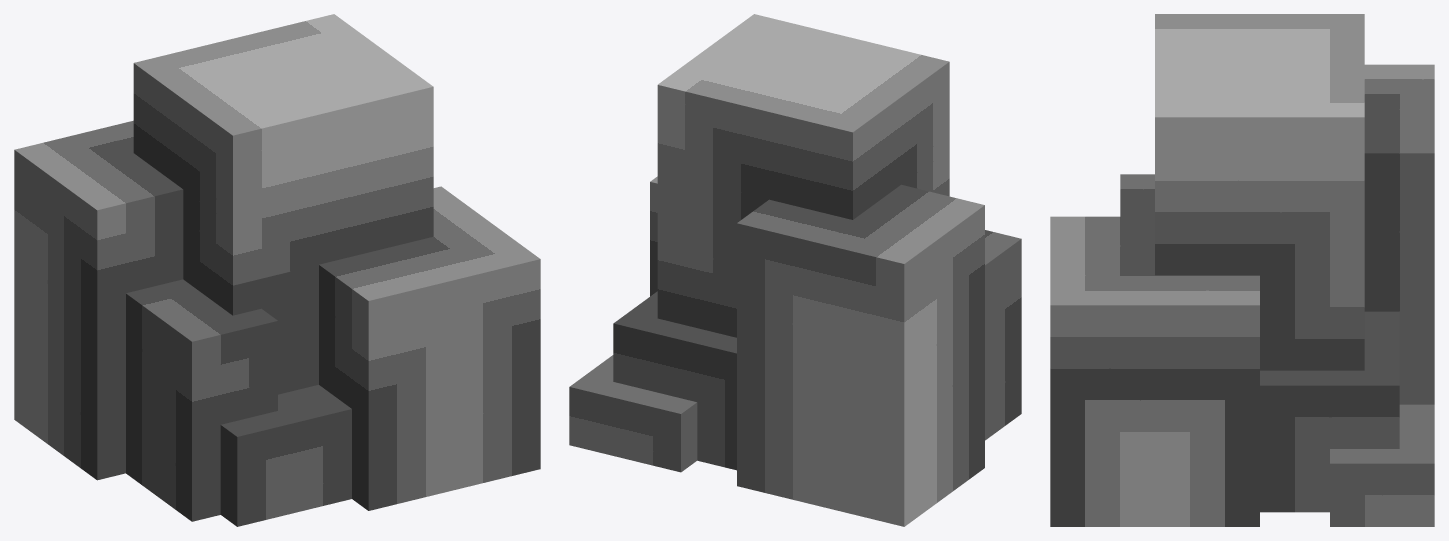
Rendered from Environment_Rock_Medium.fbx.
3 renders of one model, left to right at view 1: azimuth 30°, elevation 25°; view 2: azimuth 150°, elevation 25°; view 3: azimuth 270°, elevation 25°, orthographic. The views are drawn at different scales.
Parts seen in each view (by area): view 1: Rock_Medium; view 2: Rock_Medium; view 3: Rock_Medium.
Boxes of the visible parts, left/top/right/bottom form: Rock_Medium: left=14, top=14, right=540, bottom=526; Rock_Medium: left=569, top=14, right=1021, bottom=526; Rock_Medium: left=1050, top=14, right=1434, bottom=526.
Size of the model in its own units: 12 by 12 by 11.
1 material, 1 textured.
